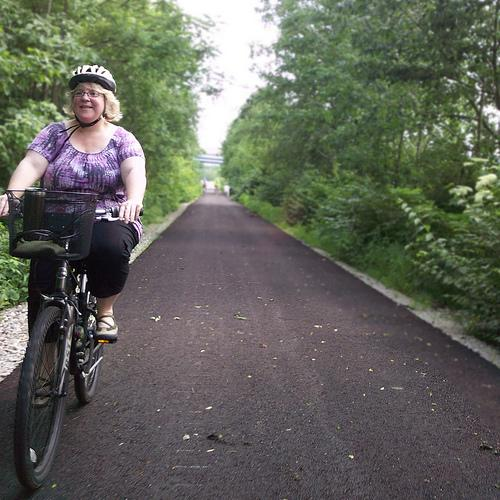person: (1, 66, 149, 409)
